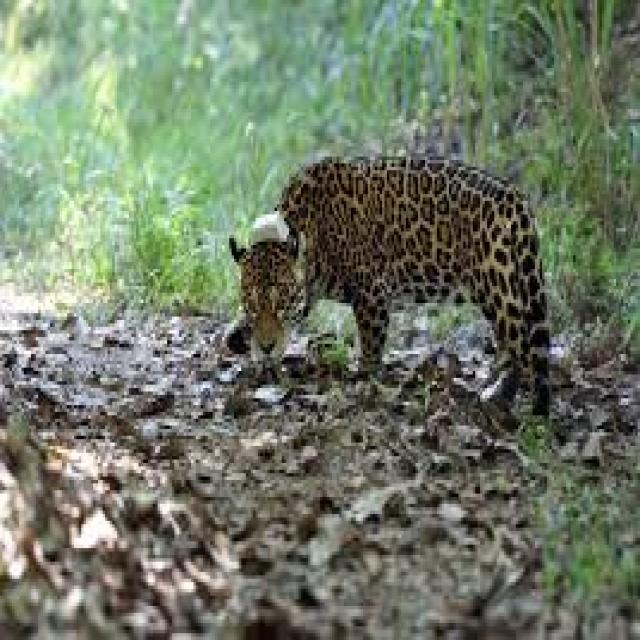Jaguar: (227, 143, 571, 408)
